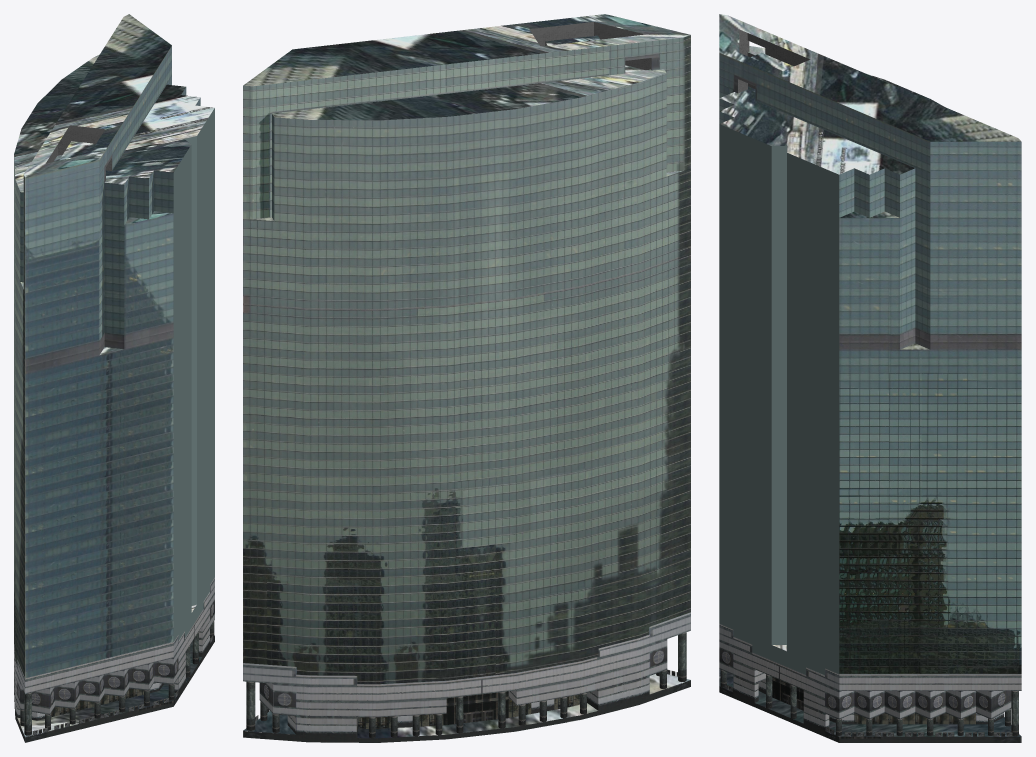
The model's file is 333wacker.fbx.
3 renders of one model, left to right at view 1: azimuth 30°, elevation 25°; view 2: azimuth 150°, elevation 25°; view 3: azimuth 270°, elevation 25°, orthographic. The views are drawn at different scales.
Parts seen in each view (by area): view 1: Model; view 2: Model; view 3: Model.
Part boxes in pixels (box(x1,y1,x2,y2)): Model: box(14, 14, 214, 742); Model: box(243, 14, 690, 742); Model: box(719, 14, 1021, 742).
Size of what is drawn, in the model's own units: 2664 by 5844 by 2664.
